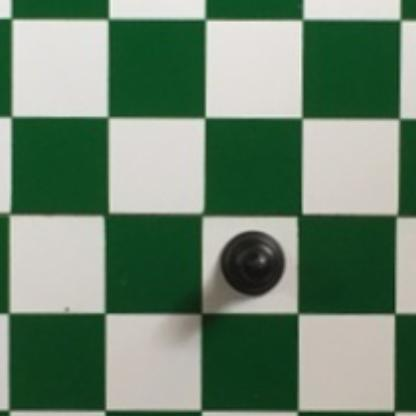black-pawn: (216, 228, 285, 299)
